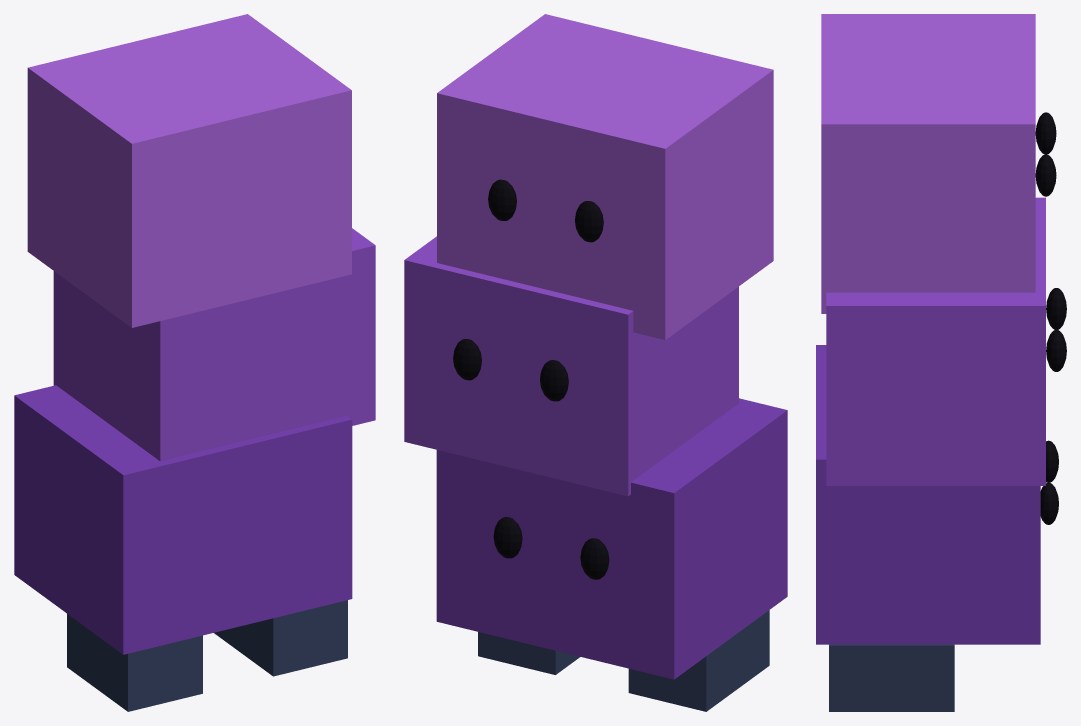
Rendered from SplitStack_Block.obj.
3 renders of one model, left to right at view 1: azimuth 30°, elevation 25°; view 2: azimuth 150°, elevation 25°; view 3: azimuth 270°, elevation 25°, orthographic. The views are drawn at different scales.
Visible parts, largest first — view 1: TopCube, BottomCube, MiddleCube, FootLeft, FootRight; view 2: TopCube, BottomCube, MiddleCube, FootLeft, FootRight, BottomEyeLeft, BottomEyeRight, TopEyeLeft, MiddleEyeRight, TopEyeRight, MiddleEyeLeft; view 3: TopCube, MiddleCube, BottomCube, FootRight, MiddleEyeLeft, MiddleEyeRight, TopEyeRight, TopEyeLeft, BottomEyeRight, BottomEyeLeft.
Boxes of the visible parts, x1,y1,x2,y2 form: TopCube: (27, 14, 351, 327); BottomCube: (14, 385, 352, 654); MiddleCube: (53, 228, 375, 461); FootLeft: (67, 614, 202, 711); FootRight: (214, 600, 347, 676); TopCube: (437, 14, 773, 339); BottomCube: (436, 398, 787, 679); MiddleCube: (404, 236, 738, 496); FootLeft: (628, 610, 769, 711); FootRight: (478, 632, 580, 674); BottomEyeLeft: (580, 538, 609, 579); BottomEyeRight: (493, 517, 522, 558); TopEyeLeft: (575, 201, 603, 242); MiddleEyeRight: (453, 339, 481, 380); TopEyeRight: (488, 179, 516, 220); MiddleEyeLeft: (540, 360, 568, 401); TopCube: (821, 14, 1035, 313); MiddleCube: (826, 197, 1045, 485); BottomCube: (816, 345, 1040, 644); FootRight: (829, 644, 954, 711); MiddleEyeLeft: (1046, 288, 1066, 329); MiddleEyeRight: (1046, 330, 1066, 371); TopEyeRight: (1035, 154, 1056, 196); TopEyeLeft: (1035, 112, 1056, 154); BottomEyeRight: (1040, 482, 1058, 524); BottomEyeLeft: (1046, 440, 1058, 482).
Bounding box in the file's own units: 1.17 × 2.48 × 0.96.
